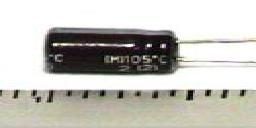Electrolytic-Capacitor: (44, 26, 256, 82)
